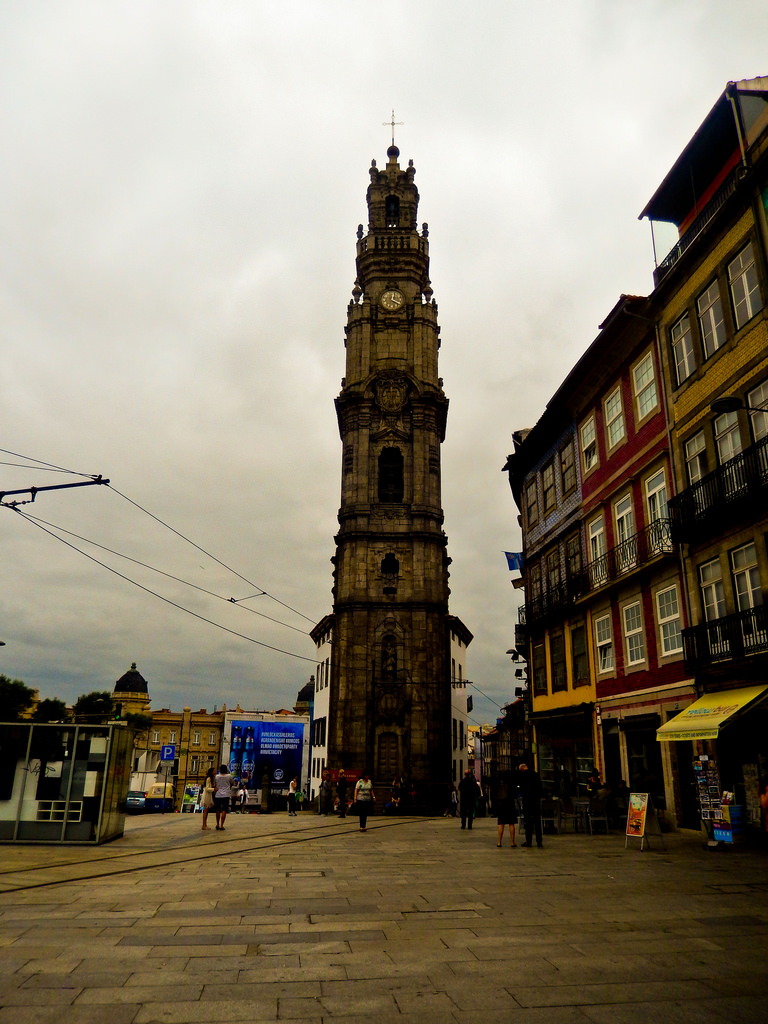clerigos: (330, 109, 456, 815)
